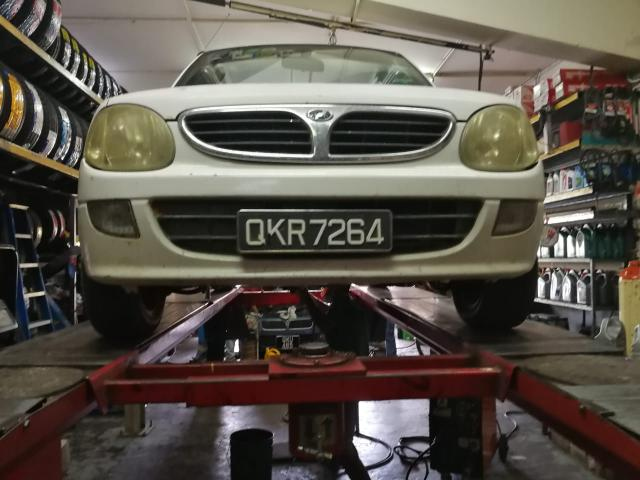License_Plate: (240, 211, 394, 253)
car: (61, 41, 549, 339)
